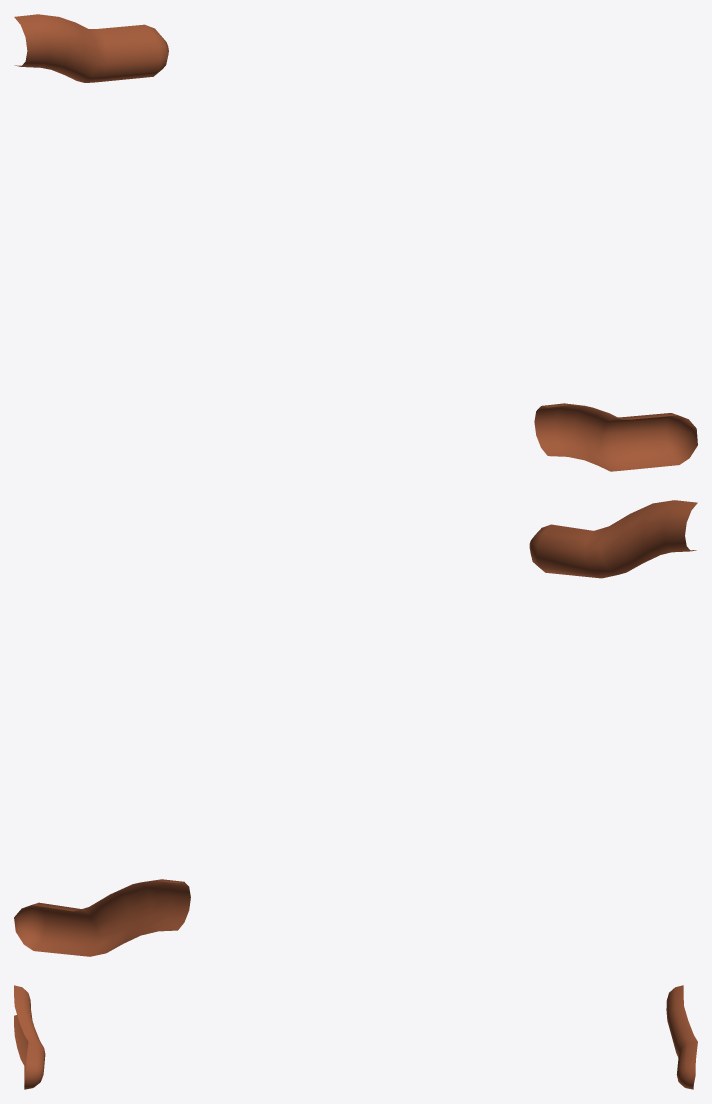
Rendered from SM_tileSol_EndSide_Border.fbx.
3 renders of one model, top to bottom at view 1: azimuth 30°, elevation 25°; view 2: azimuth 150°, elevation 25°; view 3: azimuth 270°, elevation 25°, orthographic. The views are drawn at different scales.
Parts seen in each view (by area): view 1: SM_tileSol_EndSide_Border; view 2: SM_tileSol_EndSide_Border; view 3: SM_tileSol_EndSide_Border.
Part boxes in pixels (<box>): SM_tileSol_EndSide_Border: <box>14,14,697,471</box>; SM_tileSol_EndSide_Border: <box>14,500,697,956</box>; SM_tileSol_EndSide_Border: <box>14,985,697,1089</box>.
Bounding box in the file's own units: 34.33 × 20.19 × 204.
